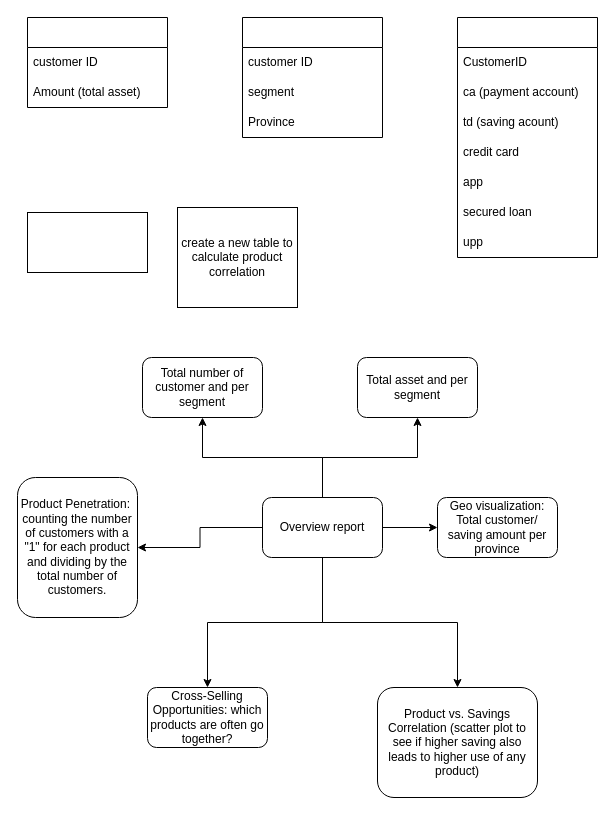
This 615x815 diagram has some shape labels left out. Here are the shapes that lost their labels. From the top down, the box of each, then its label:
(26, 16, 168, 108): aum.csv
(242, 16, 382, 138): cust.csv
(456, 16, 598, 258): Product
(26, 212, 148, 272): Credit card NA >> 0
